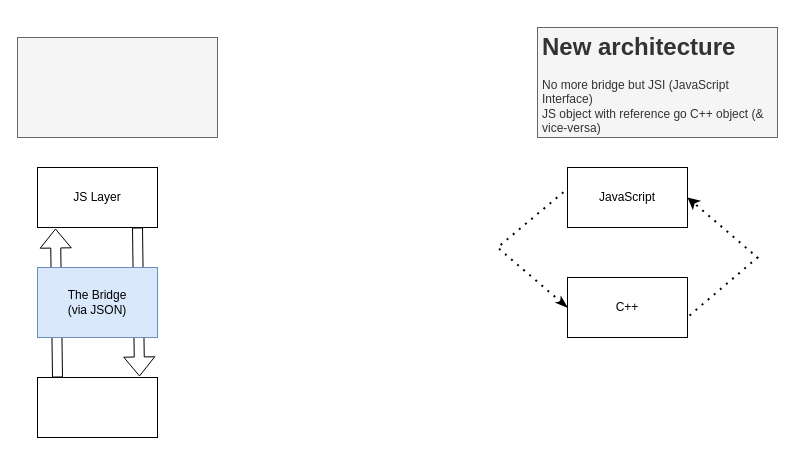
Some shapes in this 795 by 455 pixel diagram are drawn without their labels. The centre of each missing label's shape, as x and y in pixels:
"Native layer" belongs at pixel 97 407.
"Old architecture JSON was fast but still a price to pay for performance" belongs at pixel 117 87.
